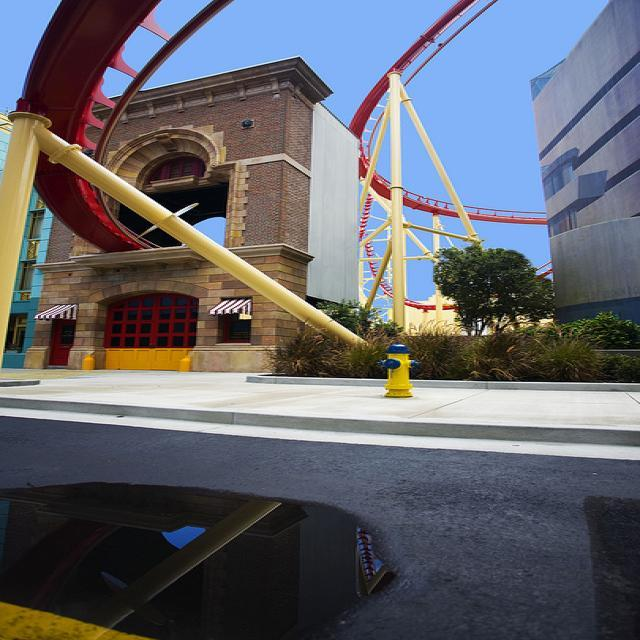fire_hydrant: (378, 344, 418, 397)
